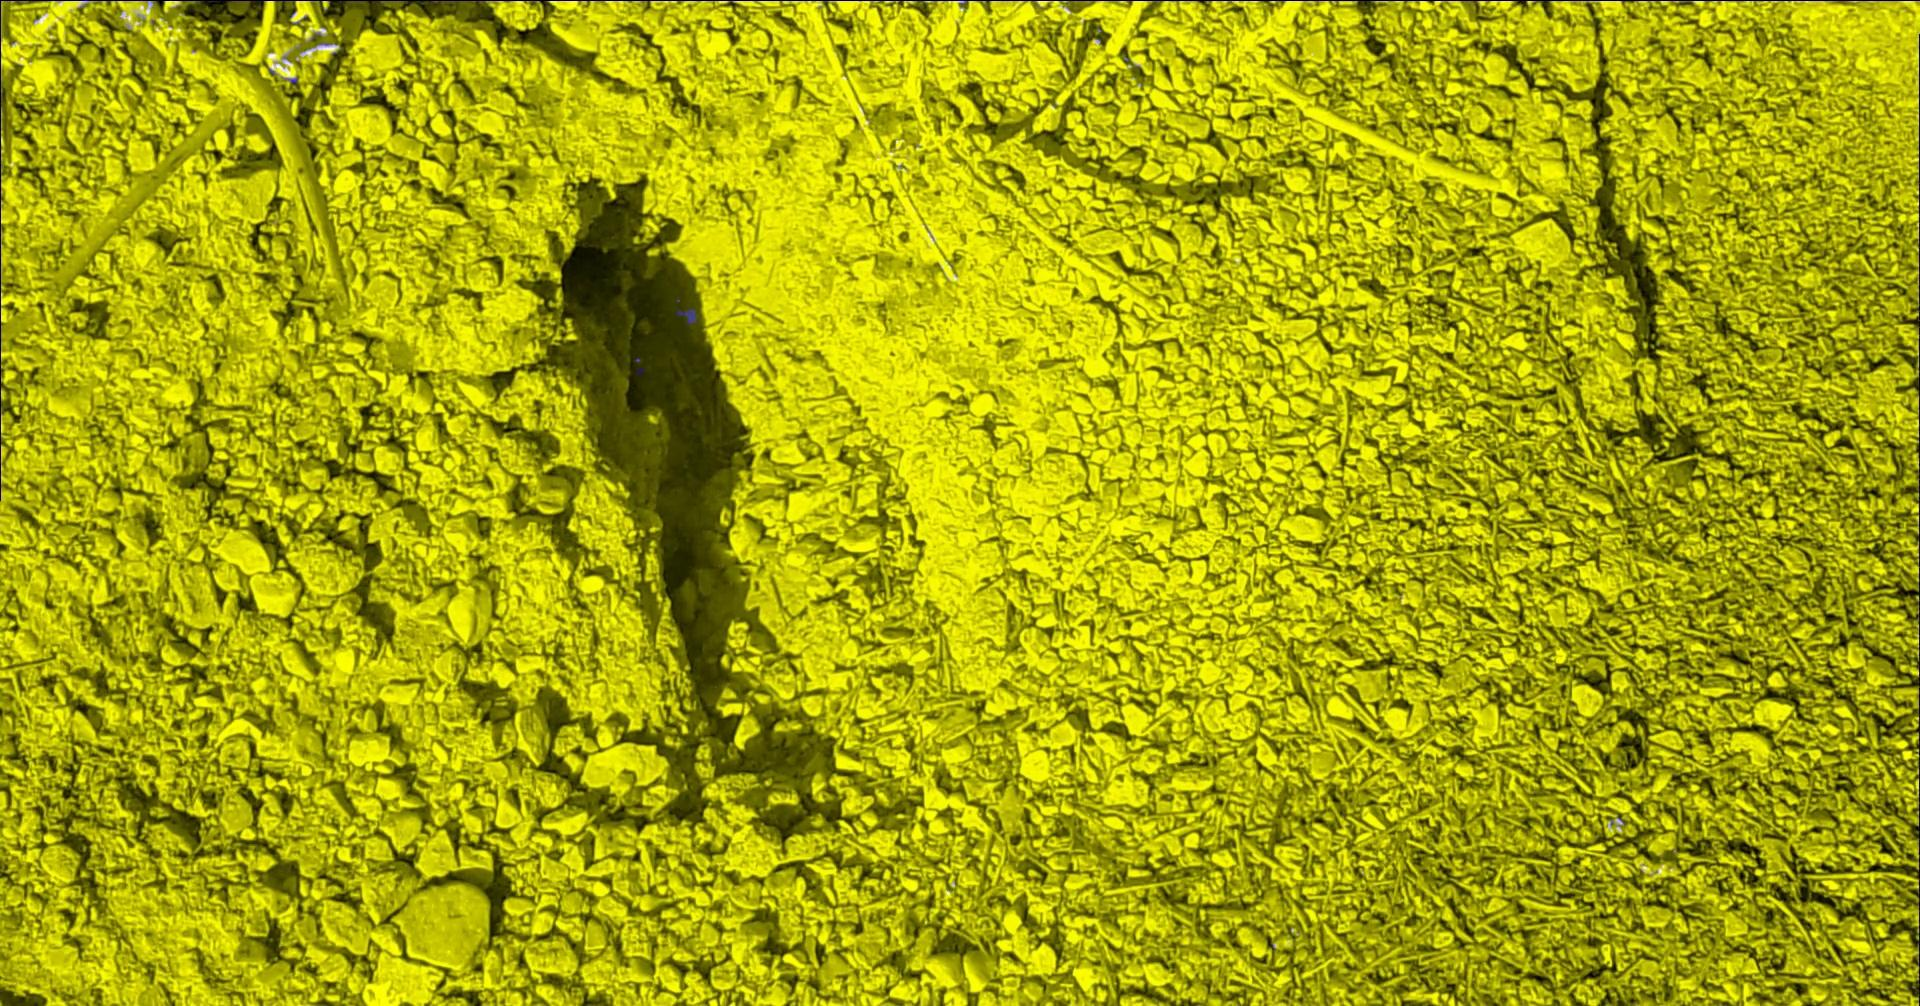ant: (676, 307, 696, 324), (430, 0, 484, 3)
